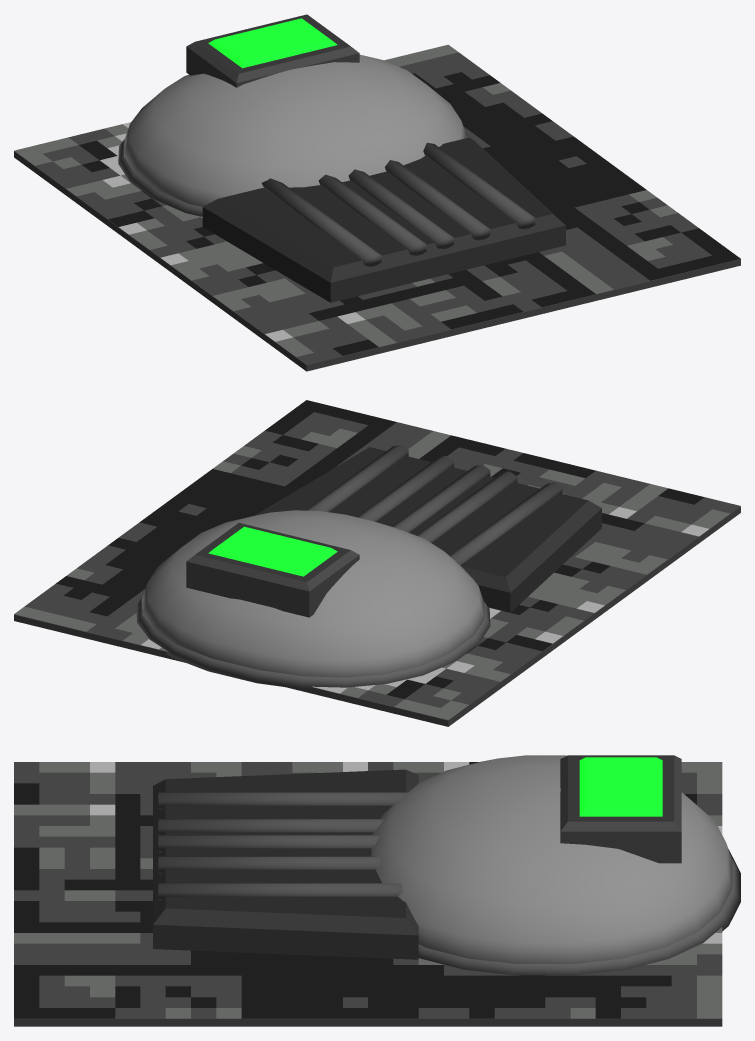
File: newshs-11.glb
The picture shows the model from 3 angles, top to bottom: view 1: azimuth 30°, elevation 25°; view 2: azimuth 150°, elevation 25°; view 3: azimuth 270°, elevation 25°; orthographic projection. The views are drawn at different scales.
Visible parts, largest first — view 1: newshs-11; view 2: newshs-11; view 3: newshs-11.
Boxes of the visible parts, <box> form: newshs-11: <box>14,14,740,371</box>; newshs-11: <box>14,400,740,726</box>; newshs-11: <box>14,755,740,1026</box>.
Bounding box in the file's own units: 2 × 0.42 × 2.39.
